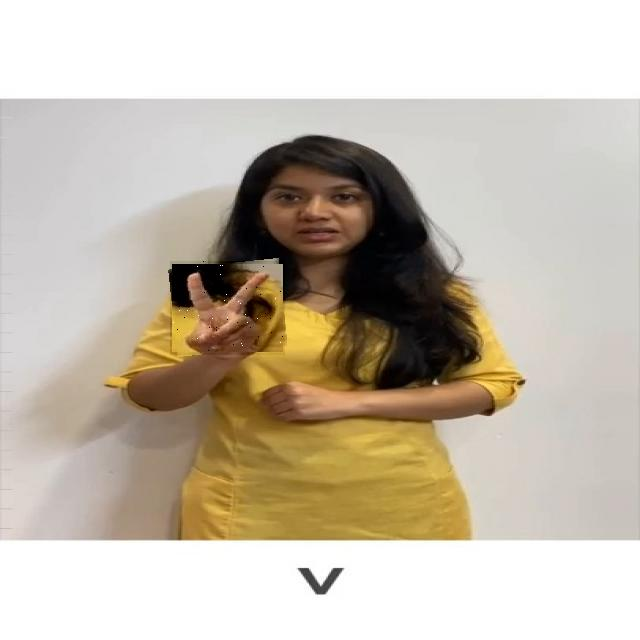V: (170, 261, 285, 355)
